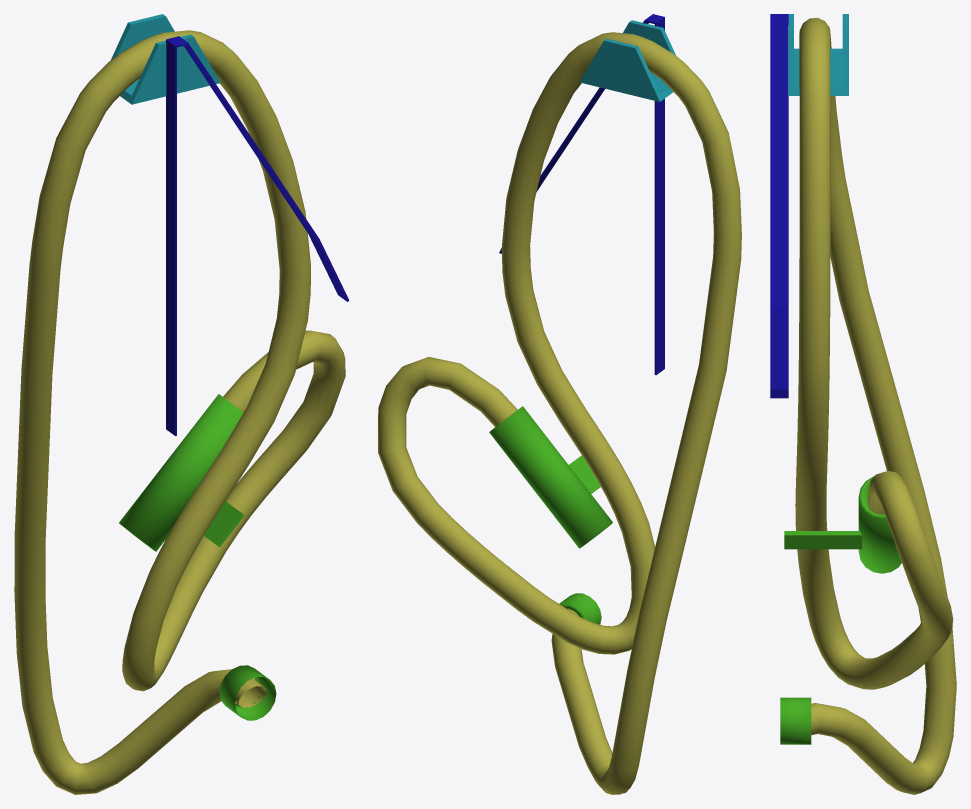
File: Hose.fbx
The picture shows the model from 3 angles, left to right: view 1: azimuth 30°, elevation 25°; view 2: azimuth 150°, elevation 25°; view 3: azimuth 270°, elevation 25°; orthographic projection. The views are drawn at different scales.
Visible parts, largest first — view 1: Hose; view 2: Hose; view 3: Hose.
Boxes of the visible parts, x1=… form: Hose: x1=14, y1=14, x2=349, y2=794; Hose: x1=378, y1=14, x2=741, y2=794; Hose: x1=770, y1=14, x2=956, y2=794.
Size of the model in its own units: 103 by 47.45 by 221.
